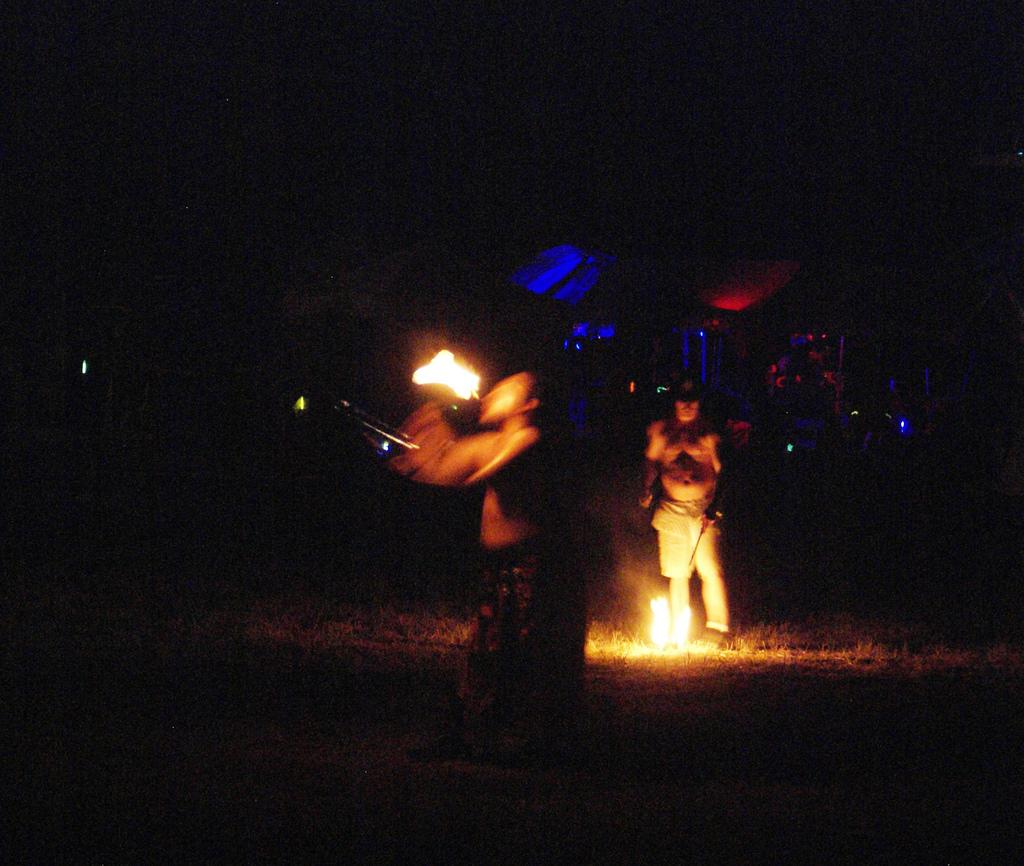fire: (408, 350, 486, 400), (644, 592, 692, 652)
